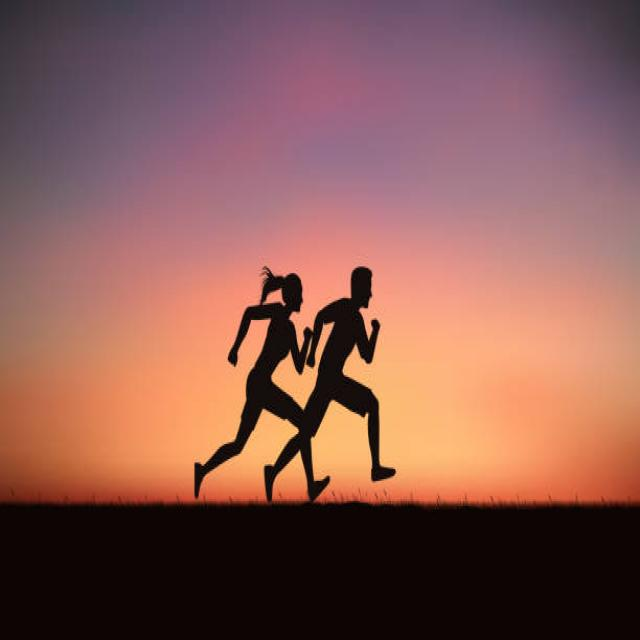Person: (193, 266, 330, 502), (264, 265, 396, 502)
